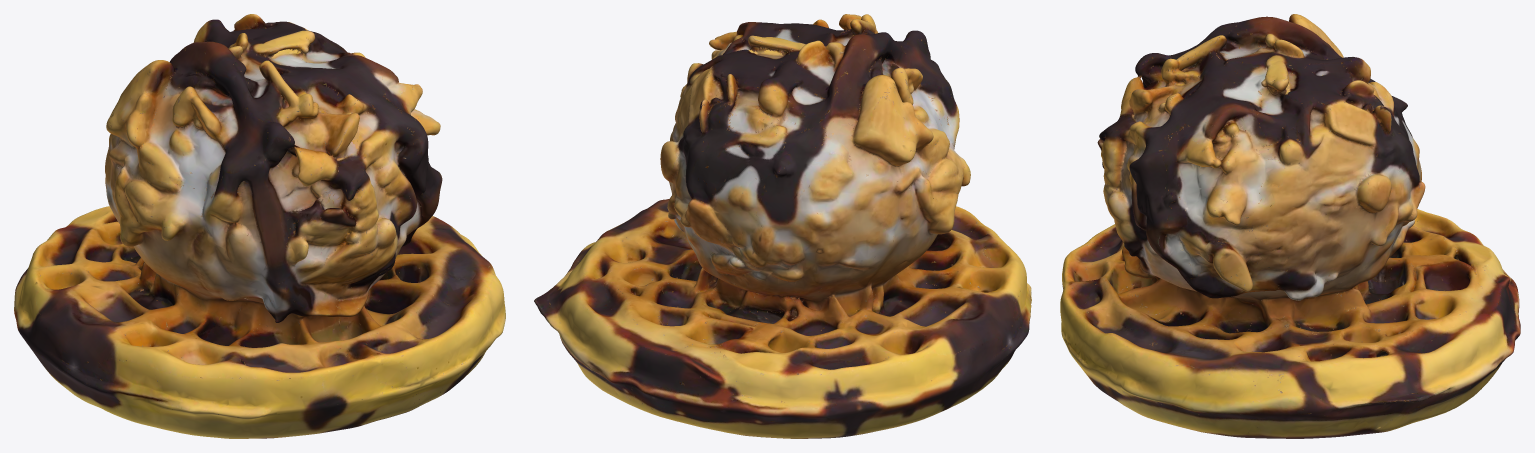
File: churro.glb
3 views of the same model, side by side, from view 1: azimuth 30°, elevation 25°; view 2: azimuth 150°, elevation 25°; view 3: azimuth 270°, elevation 25° (orthographic). The views are drawn at different scales.
Size of the model in its own units: 2 by 1.49 by 1.98.
1 material, 1 textured.
